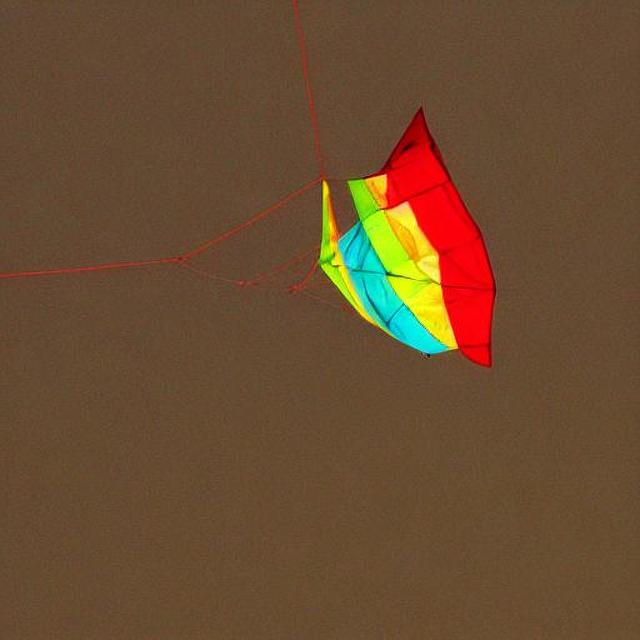floating object: (54, 88, 515, 334), (313, 101, 493, 356)
